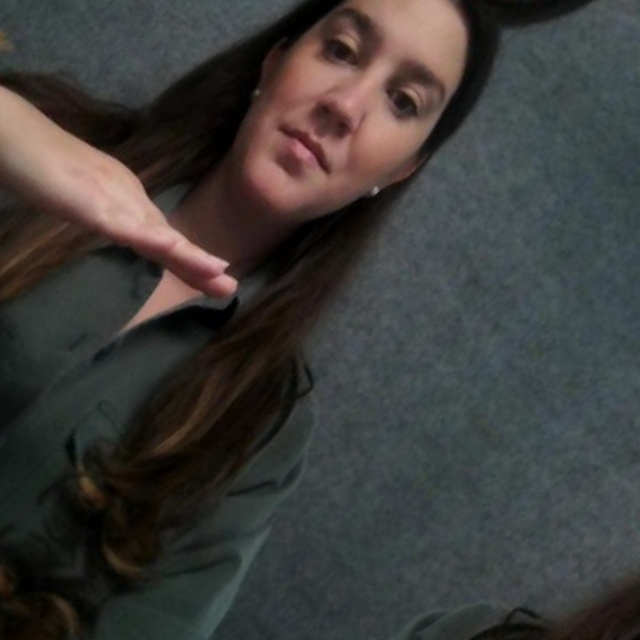Paper: (0, 80, 254, 364)
